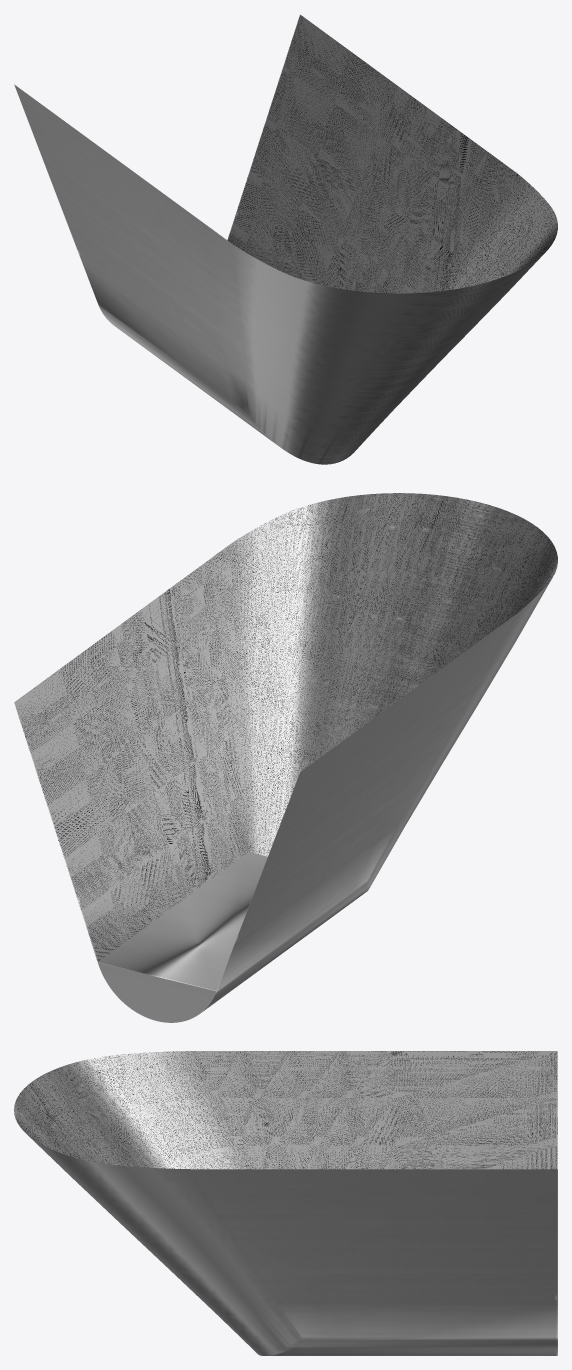
File: original-7.obj
3 views of the same model, one above another, from view 1: azimuth 30°, elevation 25°; view 2: azimuth 150°, elevation 25°; view 3: azimuth 270°, elevation 25° (orthographic). The views are drawn at different scales.
Parts seen in each view (by area): view 1: Component_2_1/Component_2/mesh17/mesh17-geometry#mesh17-geometry; view 2: Component_2_1/Component_2/mesh17/mesh17-geometry#mesh17-geometry; view 3: Component_2_1/Component_2/mesh17/mesh17-geometry#mesh17-geometry.
Boxes of the visible parts, left/top/right/bottom form: Component_2_1/Component_2/mesh17/mesh17-geometry#mesh17-geometry: left=14, top=14, right=557, bottom=464; Component_2_1/Component_2/mesh17/mesh17-geometry#mesh17-geometry: left=14, top=493, right=557, bottom=1022; Component_2_1/Component_2/mesh17/mesh17-geometry#mesh17-geometry: left=14, top=1051, right=557, bottom=1355.
Size of the model in its own units: 0.7608 by 0.721 by 1.48.
